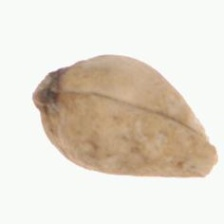L1: (193, 120, 218, 180), (32, 68, 60, 115)
L2: (33, 54, 218, 179)
